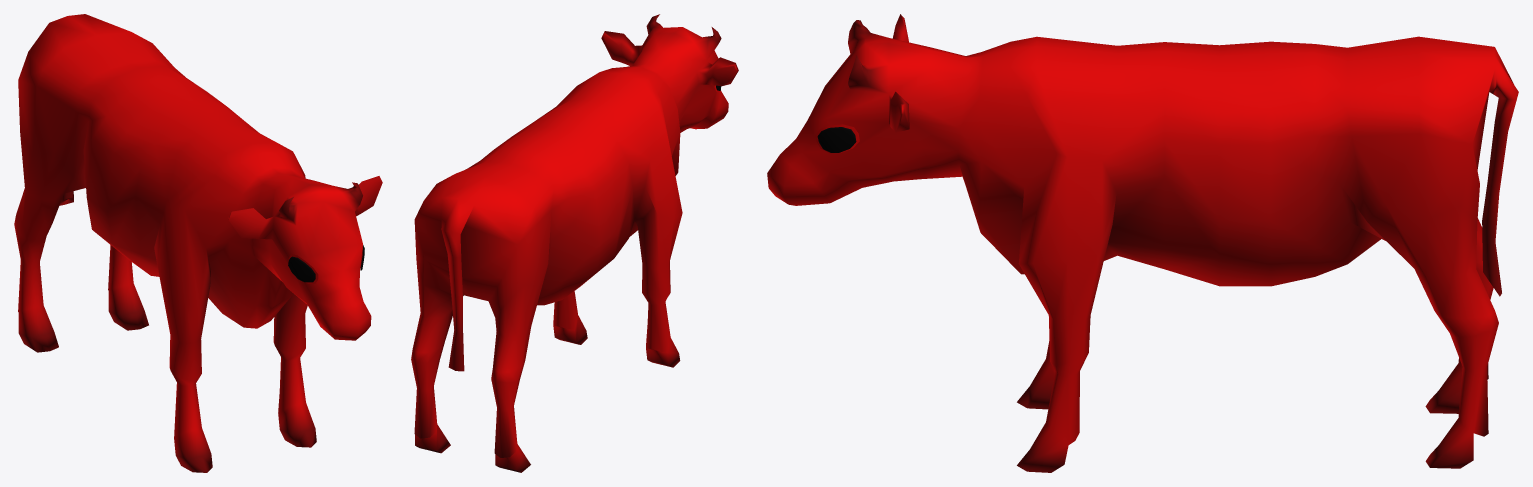
The model's file is bull_white.fbx.
The picture shows the model from 3 angles, left to right: view 1: azimuth 30°, elevation 25°; view 2: azimuth 150°, elevation 25°; view 3: azimuth 270°, elevation 25°; orthographic projection. The views are drawn at different scales.
Visible parts, largest first — view 1: cow_white; view 2: cow_white; view 3: cow_white.
Boxes of the visible parts, x1,y1,x2,y2 form: cow_white: [14, 14, 382, 472]; cow_white: [411, 14, 738, 472]; cow_white: [767, 14, 1518, 472].
Size of the model in its own units: 802 by 2714 by 1580.
